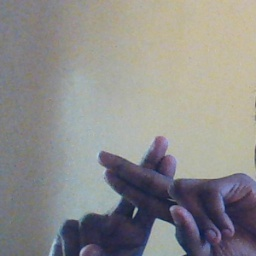F: (76, 130, 217, 251)
